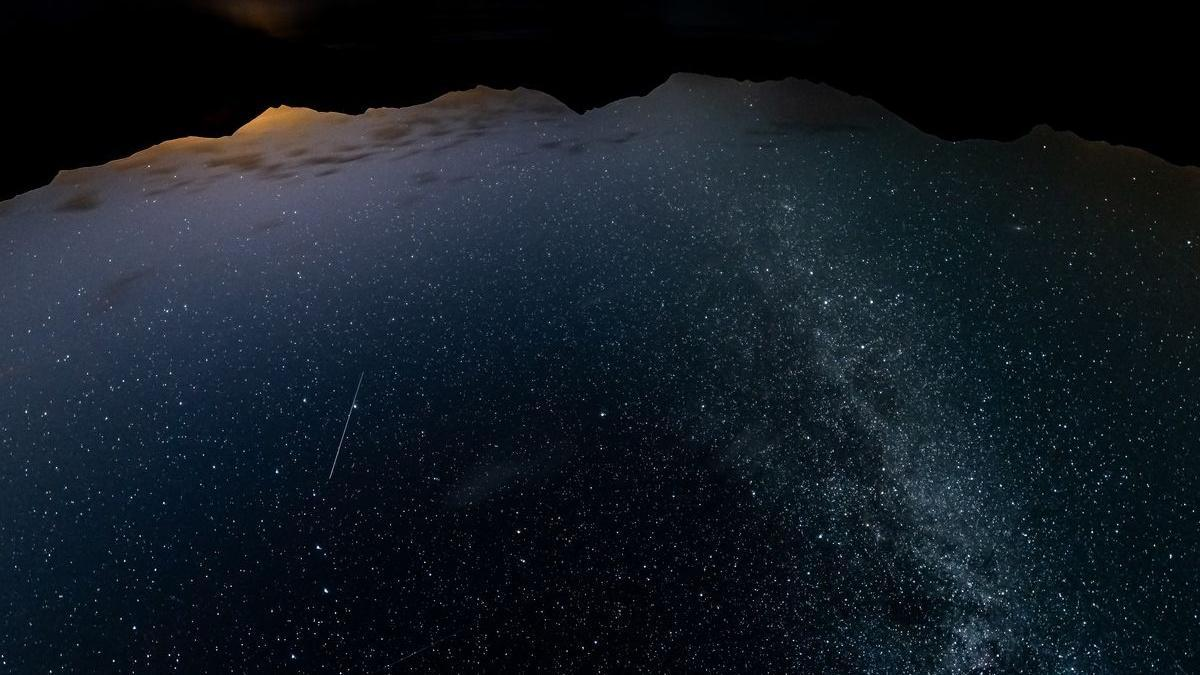meteorite: (318, 357, 383, 483)
